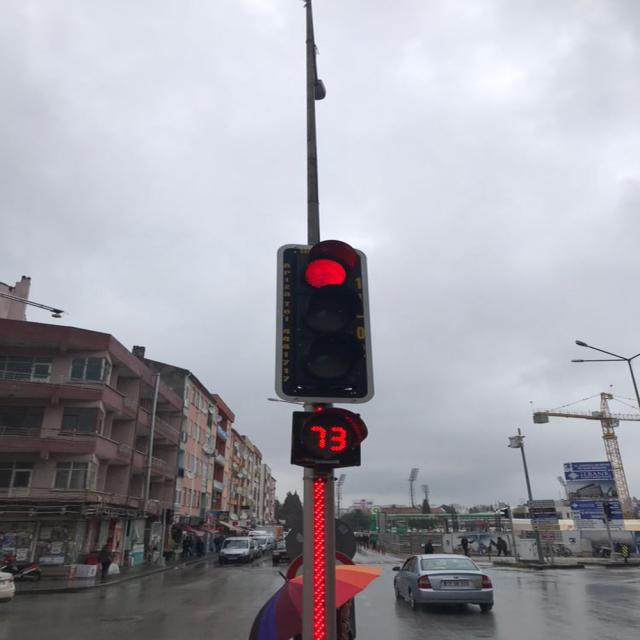red: (272, 248, 389, 404)
